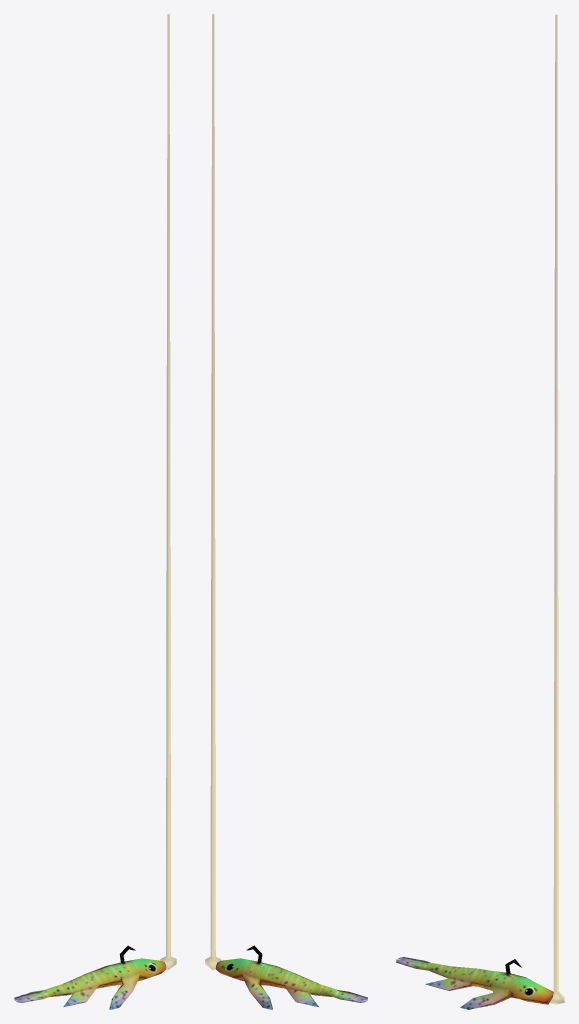
The model's file is Swimbait.fbx.
3 renders of one model, left to right at view 1: azimuth 30°, elevation 25°; view 2: azimuth 150°, elevation 25°; view 3: azimuth 330°, elevation 25°, orthographic. The views are drawn at different scales.
Parts seen in each view (by area): view 1: line, baite; view 2: line, baite; view 3: line, baite.
Part boxes in pixels (x1,y1,x2,y2): line: [160, 14, 176, 969]; baite: [14, 945, 166, 1009]; line: [205, 14, 220, 969]; baite: [215, 945, 367, 1009]; line: [548, 14, 564, 1004]; baite: [396, 957, 553, 1009].
Size of the model in its own units: 5.27 by 1.98 by 30.09.
2 materials, 1 textured.
